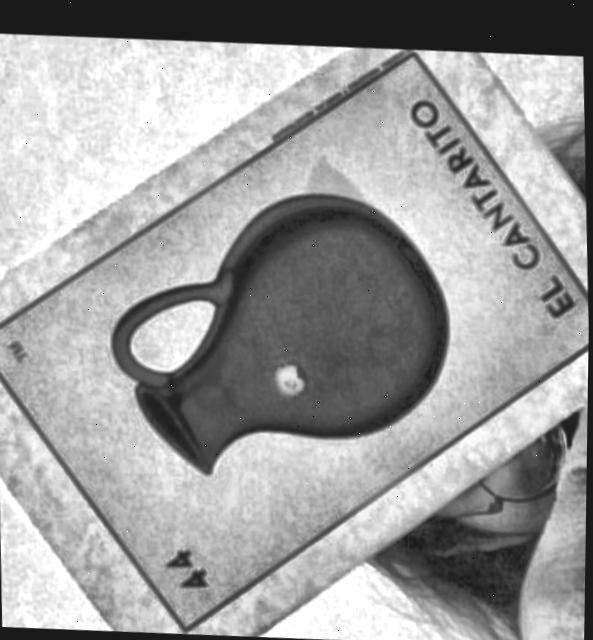El Cantarito: (0, 46, 589, 625)
